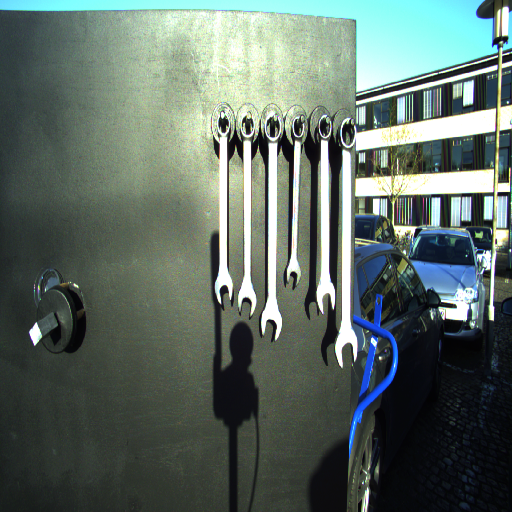bottom: (331, 330, 359, 372), (257, 306, 283, 343), (313, 281, 337, 315), (235, 285, 258, 319), (212, 277, 235, 309), (284, 263, 301, 287)
top: (262, 112, 283, 146), (338, 115, 356, 154), (316, 113, 332, 145), (215, 110, 232, 140), (289, 114, 307, 142), (239, 114, 256, 141)
